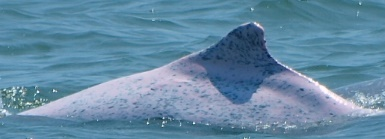fin: (12, 18, 382, 131)
